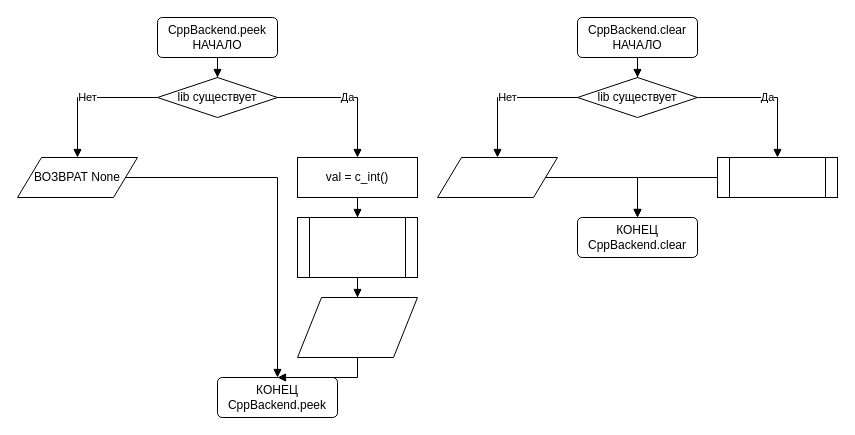
Some shapes in this 855 by 435 pixel diagram are drawn without their labels. The box of each missing label's shape, as (x1, y1, x2, y2) in pixels:
lib_clear(): (716, 156, 838, 198)
lib_peek(byref(val)): (296, 216, 418, 278)
ВОЗВРАТ: (436, 156, 558, 198)
ВОЗВРАТ val или None: (296, 296, 418, 358)
